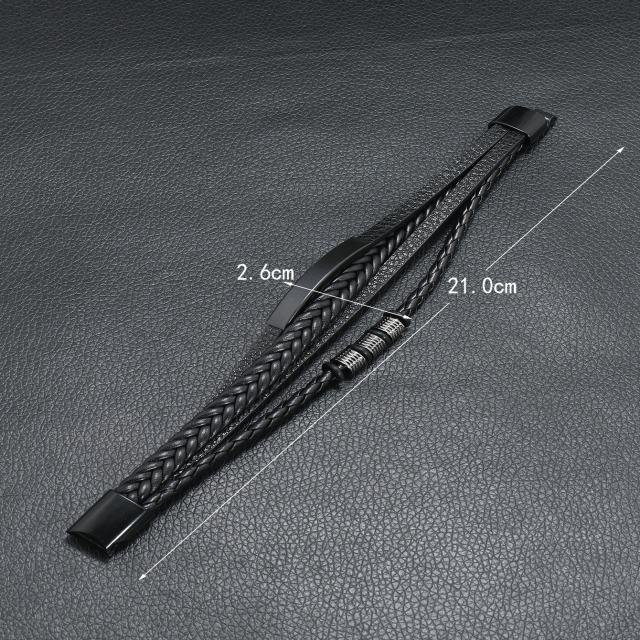bracelet: (56, 25, 640, 640)
